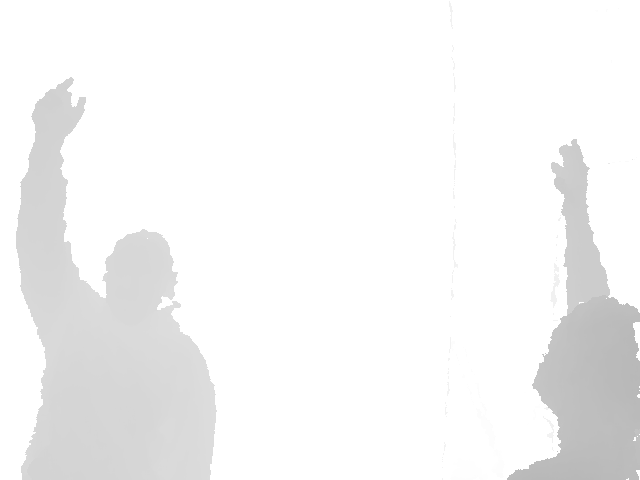hand: (31, 76, 86, 136), (549, 138, 590, 202)
head: (533, 295, 640, 433), (102, 229, 178, 318)
person: (14, 76, 218, 480), (503, 139, 640, 480)
